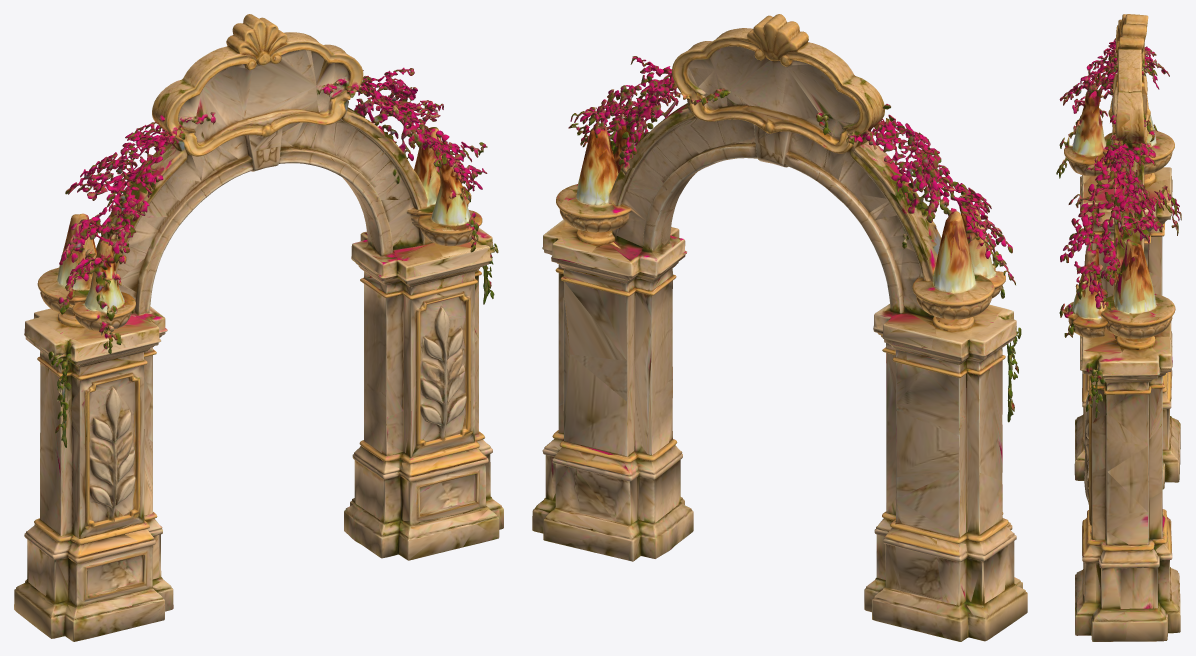
The model's file is porton.glb.
3 renders of one model, left to right at view 1: azimuth 30°, elevation 25°; view 2: azimuth 150°, elevation 25°; view 3: azimuth 270°, elevation 25°, orthographic. The views are drawn at different scales.
Parts seen in each view (by area): view 1: Mesh_0; view 2: Mesh_0; view 3: Mesh_0.
Boxes of the visible parts, bbox=[...] form: Mesh_0: bbox=[14, 14, 503, 641]; Mesh_0: bbox=[532, 14, 1027, 641]; Mesh_0: bbox=[1056, 14, 1181, 641].
Size of the model in its own units: 1.64 by 1.9 by 0.4127.
1 material, 1 textured.
